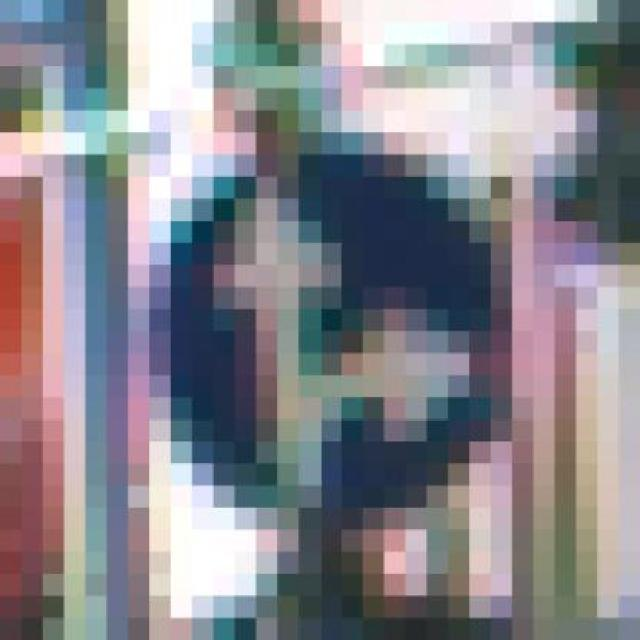Go Straight or Turn Right: (107, 132, 555, 552)
